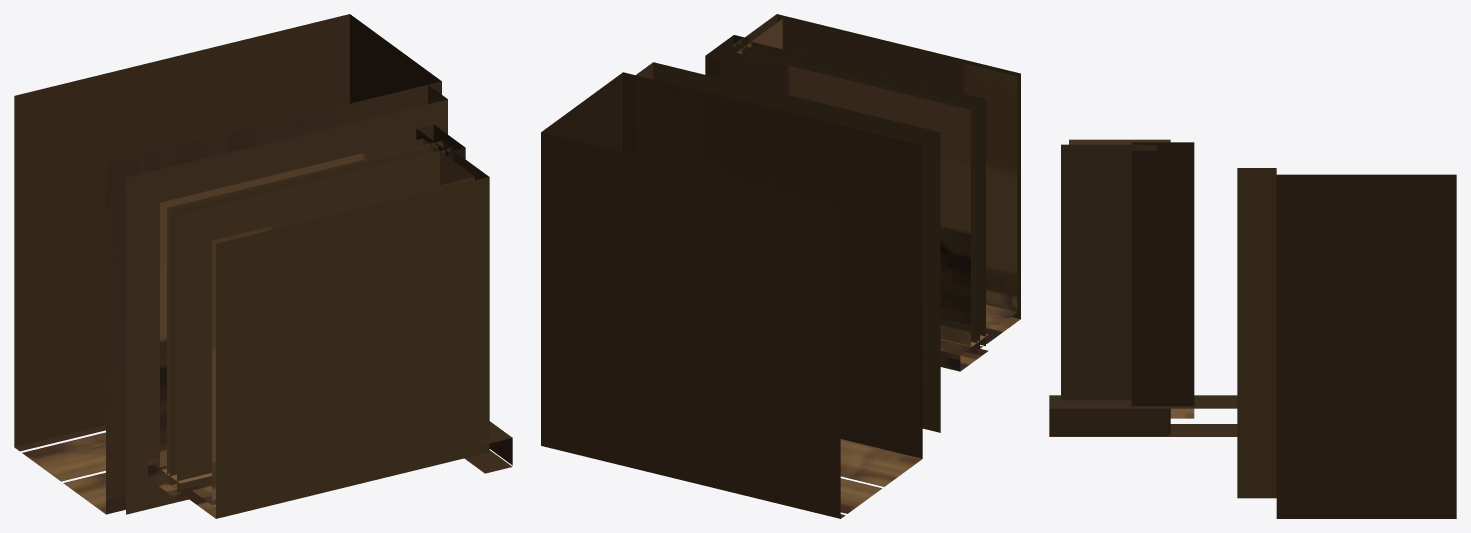
The model's file is section-3.obj.
The picture shows the model from 3 angles, left to right: view 1: azimuth 30°, elevation 25°; view 2: azimuth 150°, elevation 25°; view 3: azimuth 270°, elevation 25°; orthographic projection. The views are drawn at different scales.
Size of the model in its own units: 0.97 by 0.97 by 1.04.
